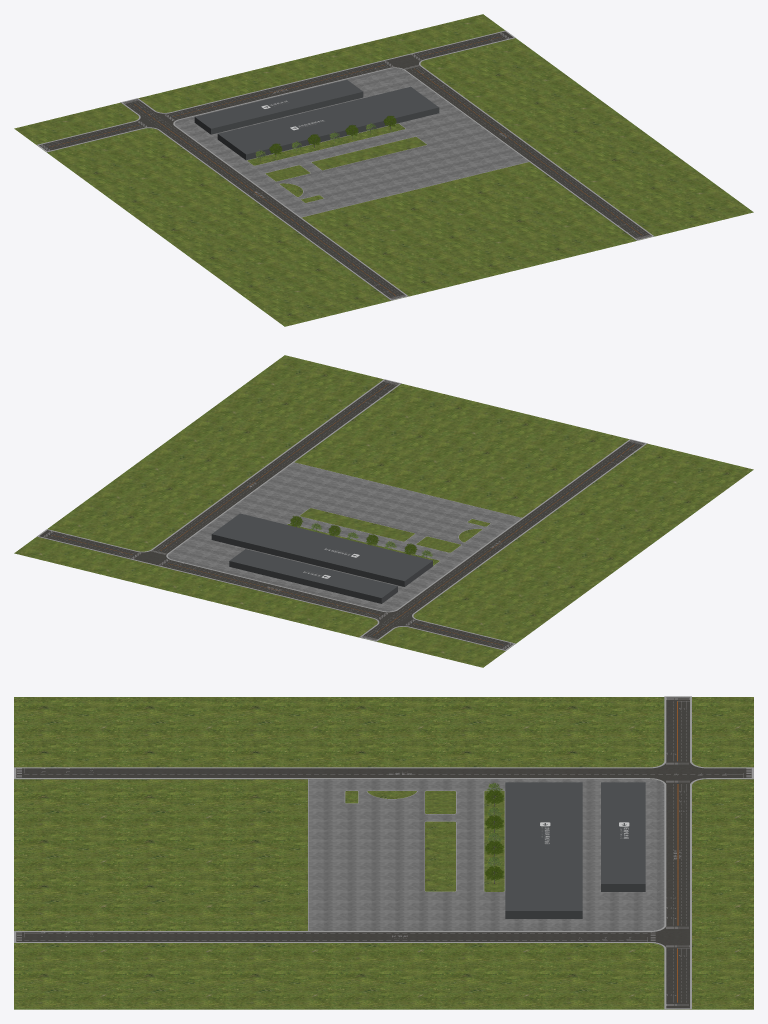
The model's file is 内地形.glb.
The picture shows the model from 3 angles, top to bottom: view 1: azimuth 30°, elevation 25°; view 2: azimuth 150°, elevation 25°; view 3: azimuth 270°, elevation 25°; orthographic projection. The views are drawn at different scales.
Visible parts, largest first — view 1: floor_1, floor_2, 平面.001, 立方体, 立方体.001, floor_7, floor_3; view 2: floor_1, floor_2, 平面.001, 立方体, 立方体.001, floor_7; view 3: floor_1, floor_2, 平面.001, 立方体, 立方体.001, floor_7, floor_3, 图形044.002, floor_6, 图形044.003.
Part boxes in pixels (left/top/right/bottom): floor_1: left=14, top=14, right=753, bottom=326; floor_2: left=175, top=68, right=528, bottom=217; 平面.001: left=37, top=30, right=654, bottom=300; 立方体: left=217, top=86, right=439, bottom=160; 立方体.001: left=194, top=80, right=363, bottom=134; floor_7: left=311, top=136, right=427, bottom=170; floor_3: left=247, top=123, right=405, bottom=165; floor_1: left=14, top=355, right=753, bottom=667; floor_2: left=168, top=462, right=521, bottom=611; 平面.001: left=37, top=379, right=647, bottom=650; 立方体: left=211, top=513, right=432, bottom=586; 立方体.001: left=229, top=549, right=397, bottom=603; floor_7: left=299, top=508, right=415, bottom=541; floor_1: left=14, top=697, right=753, bottom=1009; floor_2: left=308, top=779, right=664, bottom=930; 平面.001: left=14, top=696, right=753, bottom=1009; 立方体: left=505, top=782, right=582, bottom=918; 立方体.001: left=601, top=782, right=645, bottom=891; floor_7: left=424, top=821, right=456, bottom=891; floor_3: left=483, top=790, right=505, bottom=892; 图形044.002: left=17, top=932, right=655, bottom=942; floor_6: left=424, top=790, right=456, bottom=814; 图形044.003: left=17, top=768, right=751, bottom=777.
Size of the model in its own units: 600 by 16.15 by 600.
27 materials, 23 textured.
